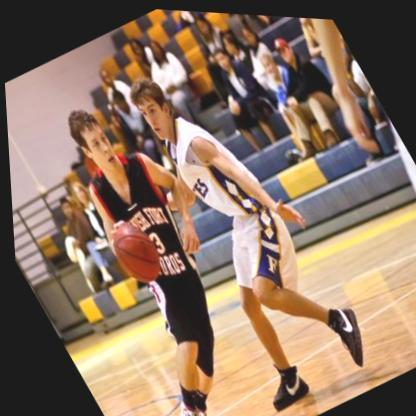basketball: (99, 213, 166, 287)
